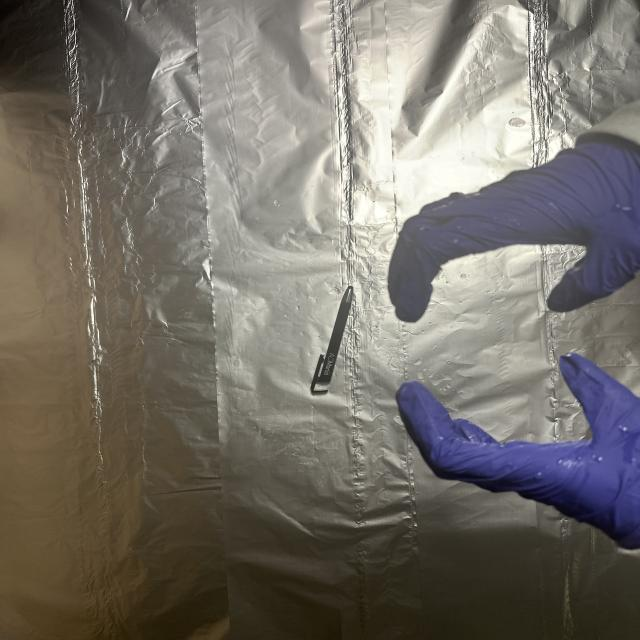gloves_contaminated: (396, 354, 640, 549), (388, 134, 640, 322)
